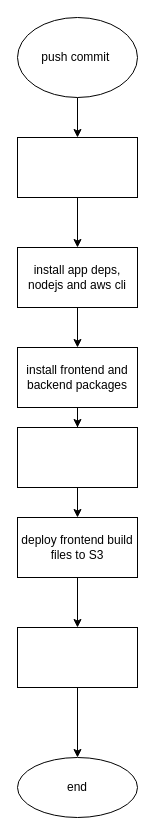
This 155x835 diagram has some shape labels left out. The shapes that lost their labels are listed below. From the top down, each one's centre as x and y in pixels, then its label:
point (77, 167): trigger pipeline to iniat a new process
point (77, 457): build backend and frontend
point (77, 657): deploy backend build files to ElasticBeanstalk
